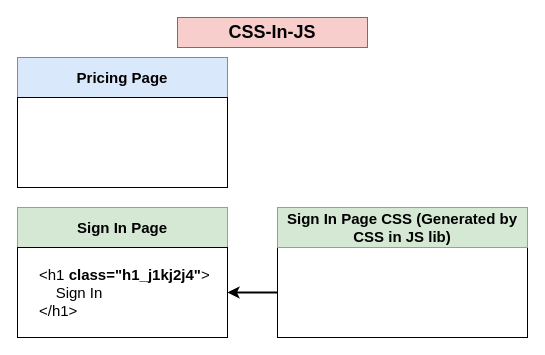
Image size: 545x355. Some labels were removed from this diagram. The box of each missing label's shape, as (x1, y1, x2, y2) in pixels:
.h1_j1kj2j4 { color: 'green' }: (276, 246, 528, 338)
<h1> Pricing Options </h1>: (16, 96, 228, 188)
